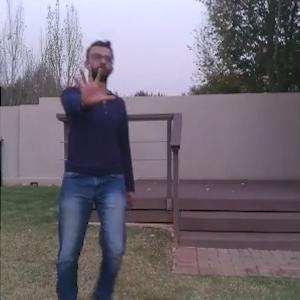follow_hand: (71, 62, 116, 106)
